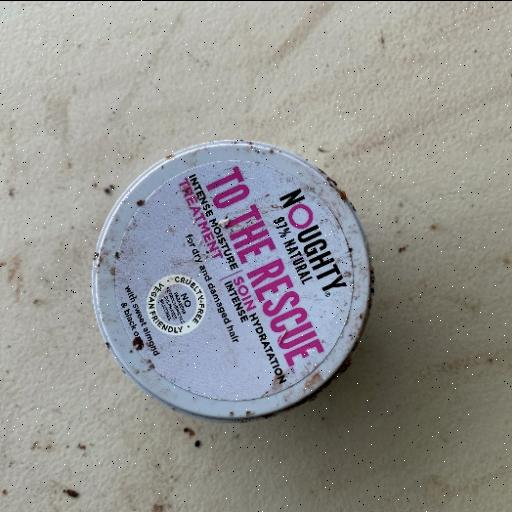Metal: (90, 136, 374, 422)
